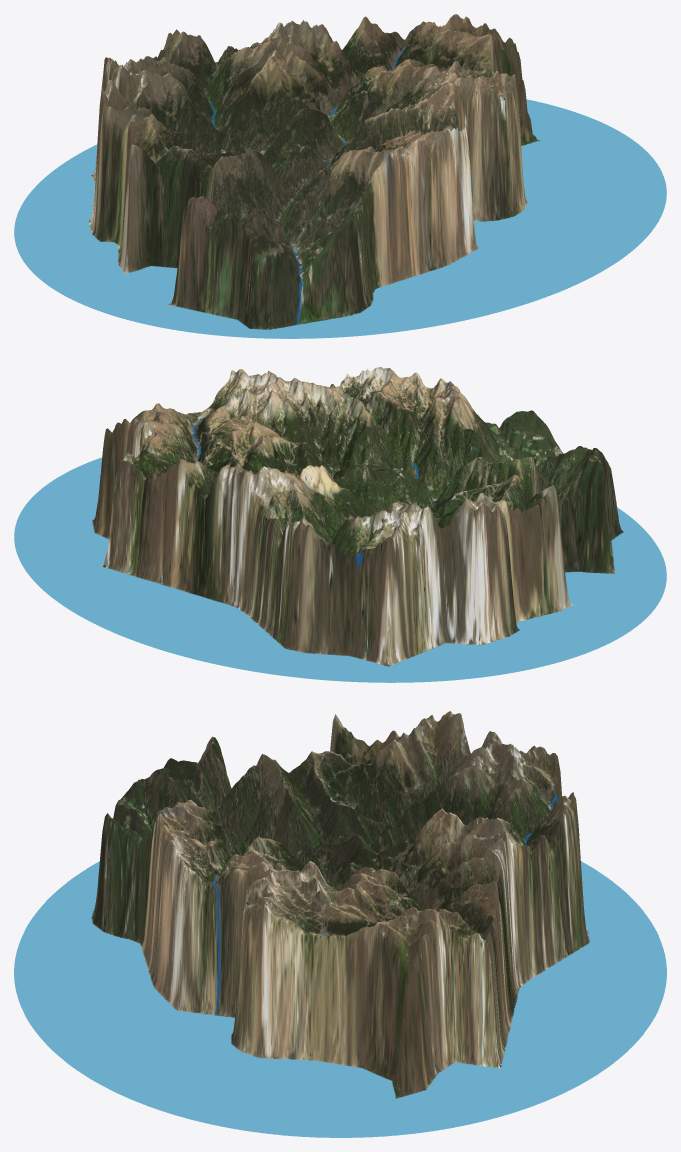
Rendered from AND-previa-terrain.glb.
3 views of the same model, one above another, from view 1: azimuth 30°, elevation 25°; view 2: azimuth 150°, elevation 25°; view 3: azimuth 270°, elevation 25° (orthographic). The views are drawn at different scales.
Visible parts, largest first — view 1: Andorra; view 2: Andorra; view 3: Andorra.
Boxes of the visible parts, box(x1,y1,x2,y2) form: Andorra: box(14, 14, 666, 338); Andorra: box(14, 367, 666, 682); Andorra: box(14, 711, 666, 1137).
Size of the model in its own units: 2.3 by 0.5204 by 1.92.
Materials: 1 (1 with a texture image).
